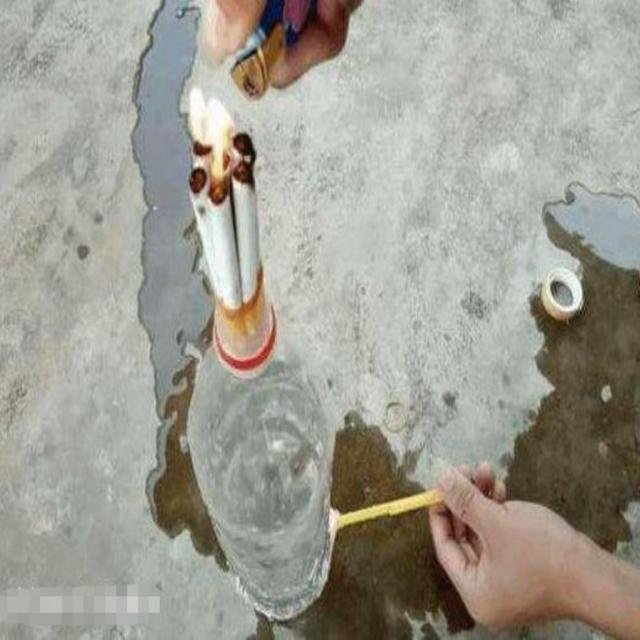smoking: (91, 71, 328, 366)
